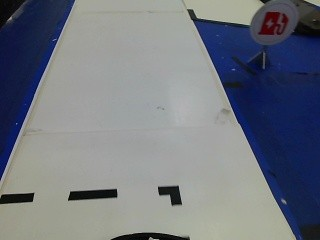battery: (247, 3, 297, 45)
